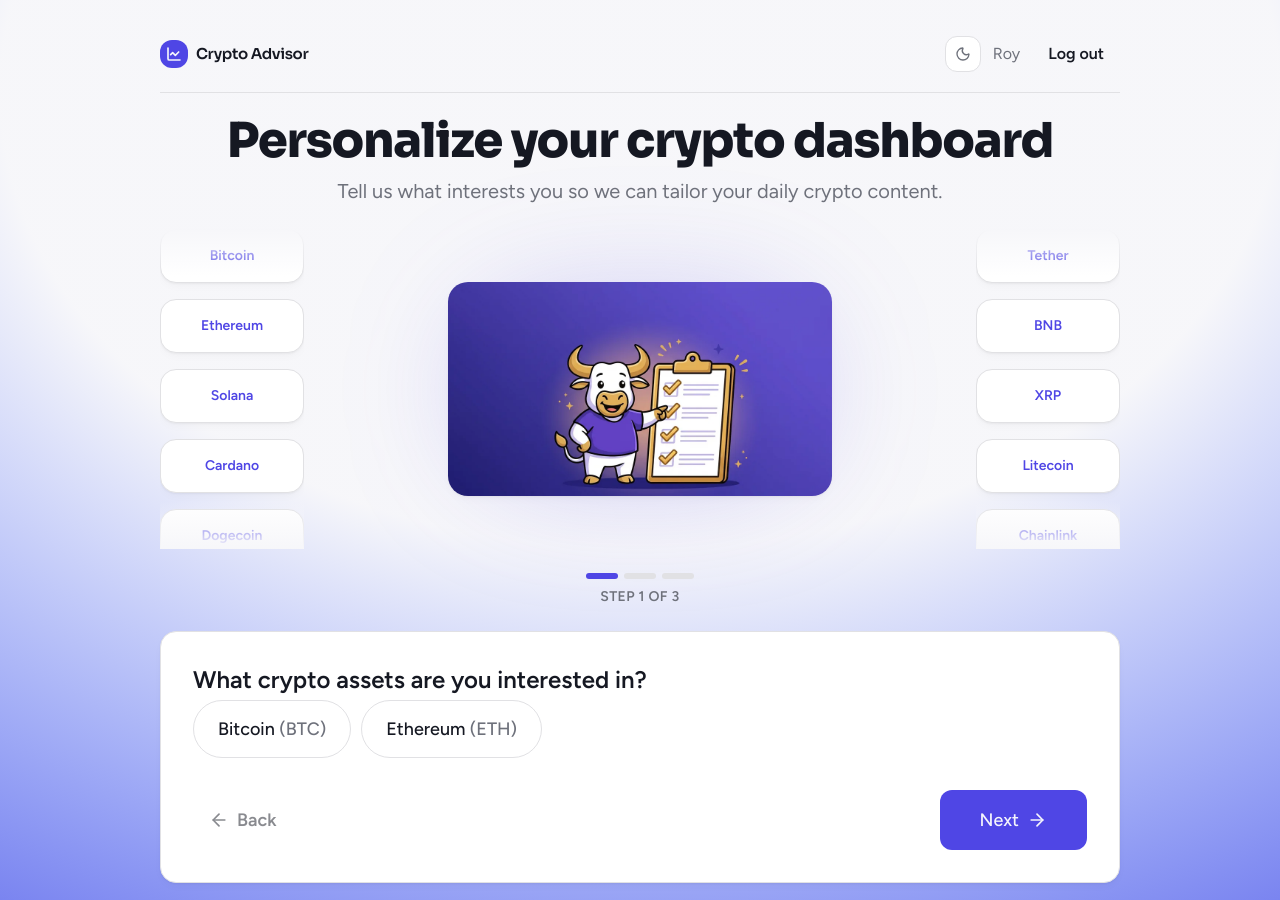
Test case: OnboardingPage › shows an error and keeps selections when saving fails
This screenshot has width=1280, height=900.
Click the button "Bitcoin (BTC)" at (272, 729), box [193,700,351,758]
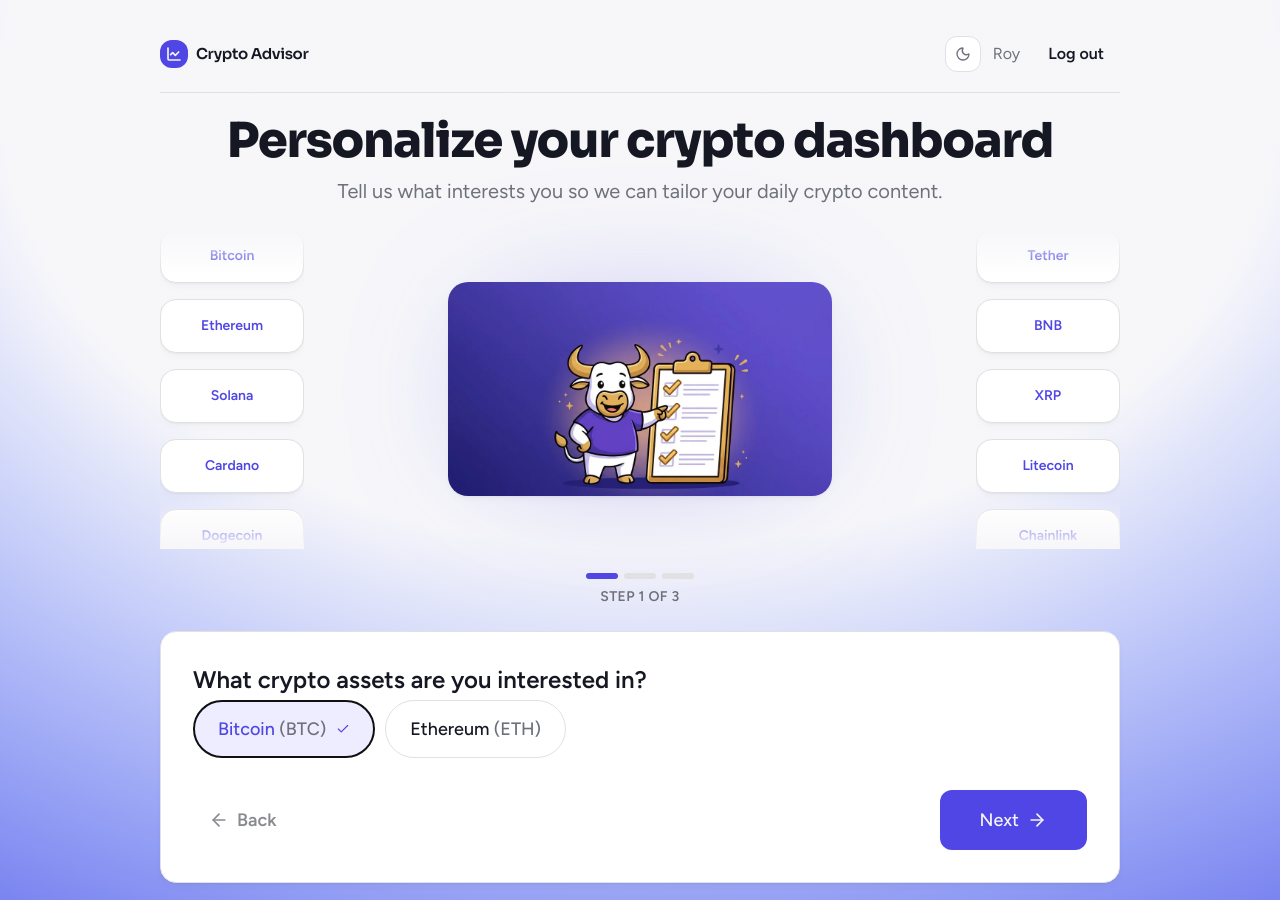
Click the button "Next" at (1013, 820), box [940,790,1087,850]
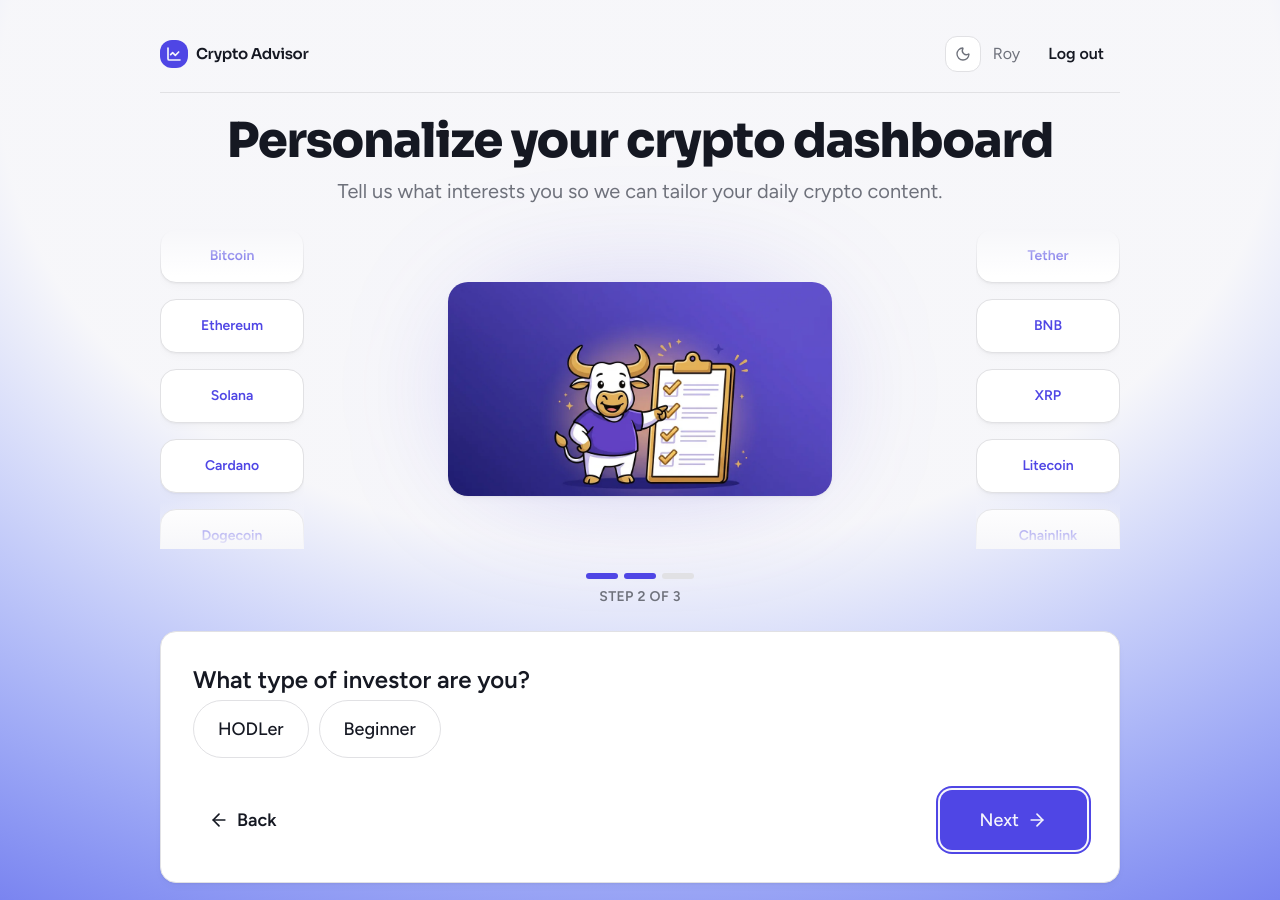
Click the button "HODLer" at (251, 729), box [193,700,309,758]
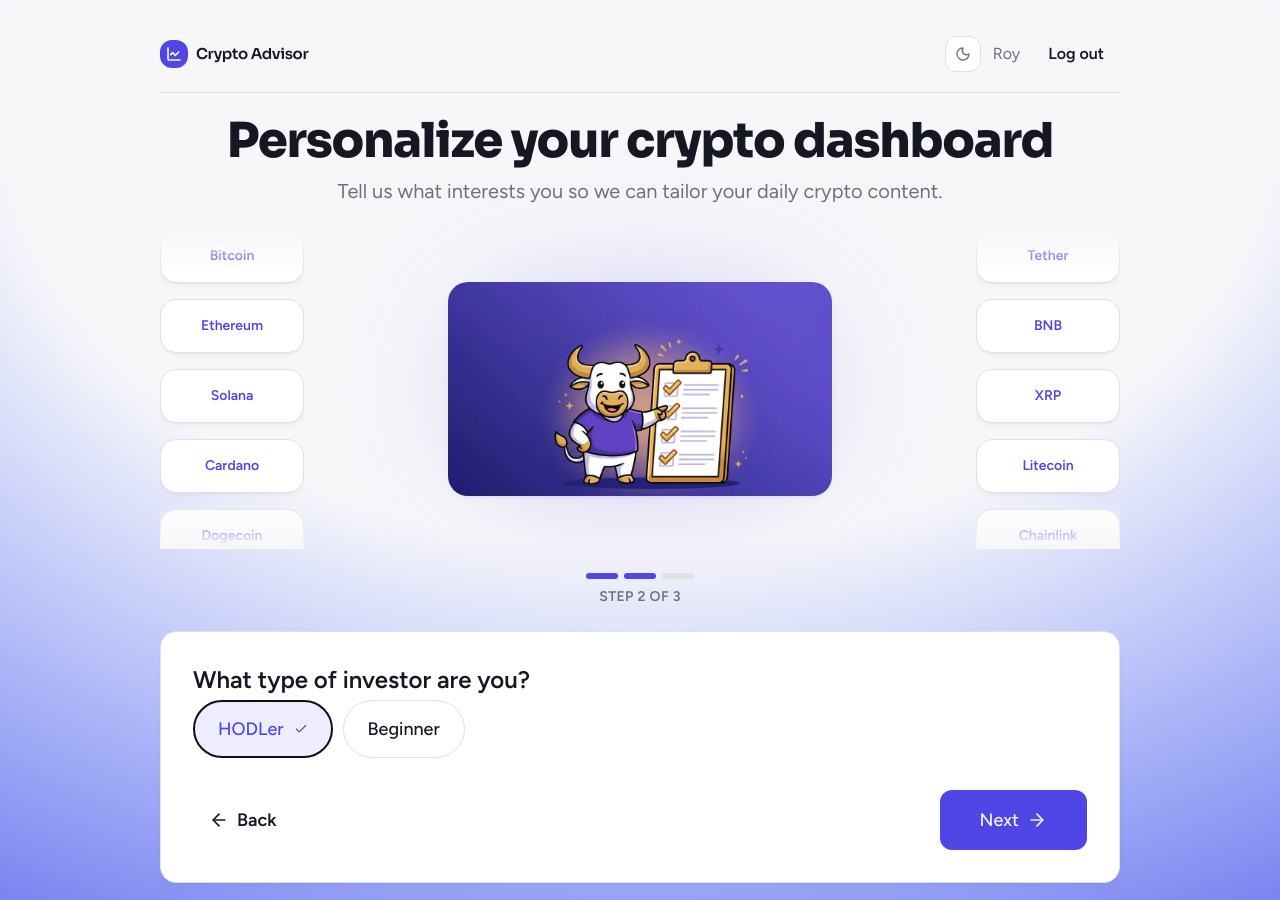
Click the button "Next" at (1013, 820), box [940,790,1087,850]
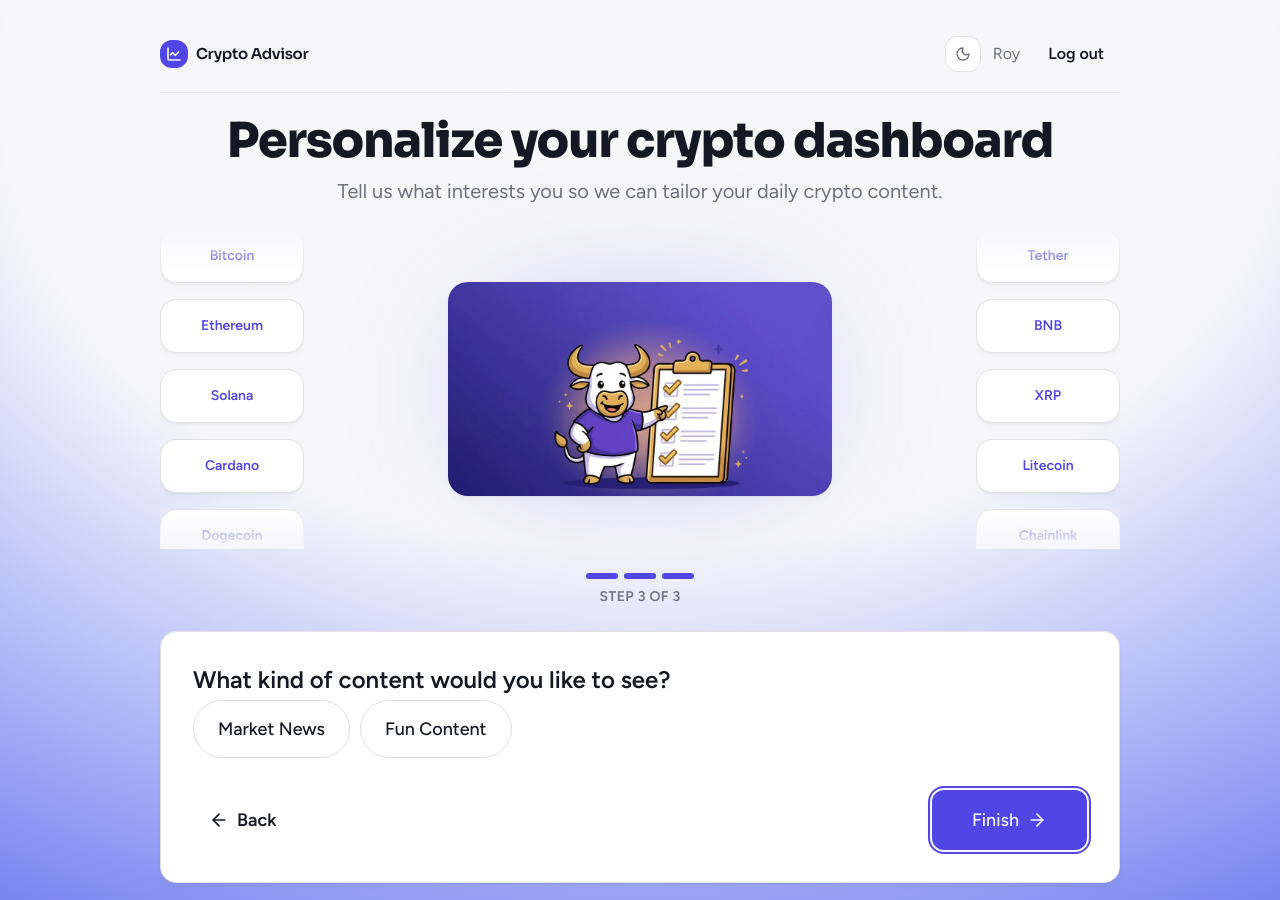
Click the button "Market News" at (272, 729), box [193,700,350,758]
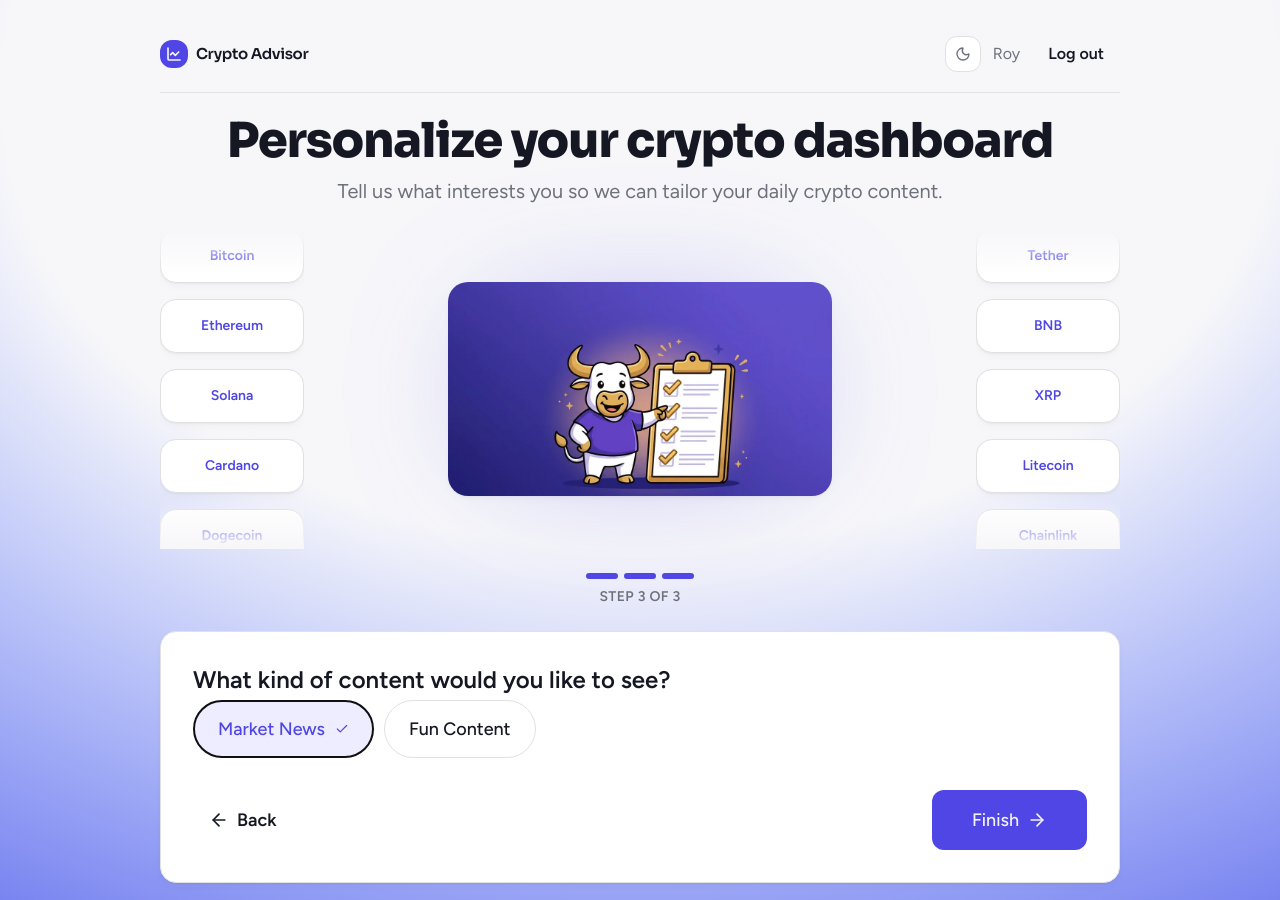
Click the button "Finish" at (1009, 820), box [932,790,1087,850]
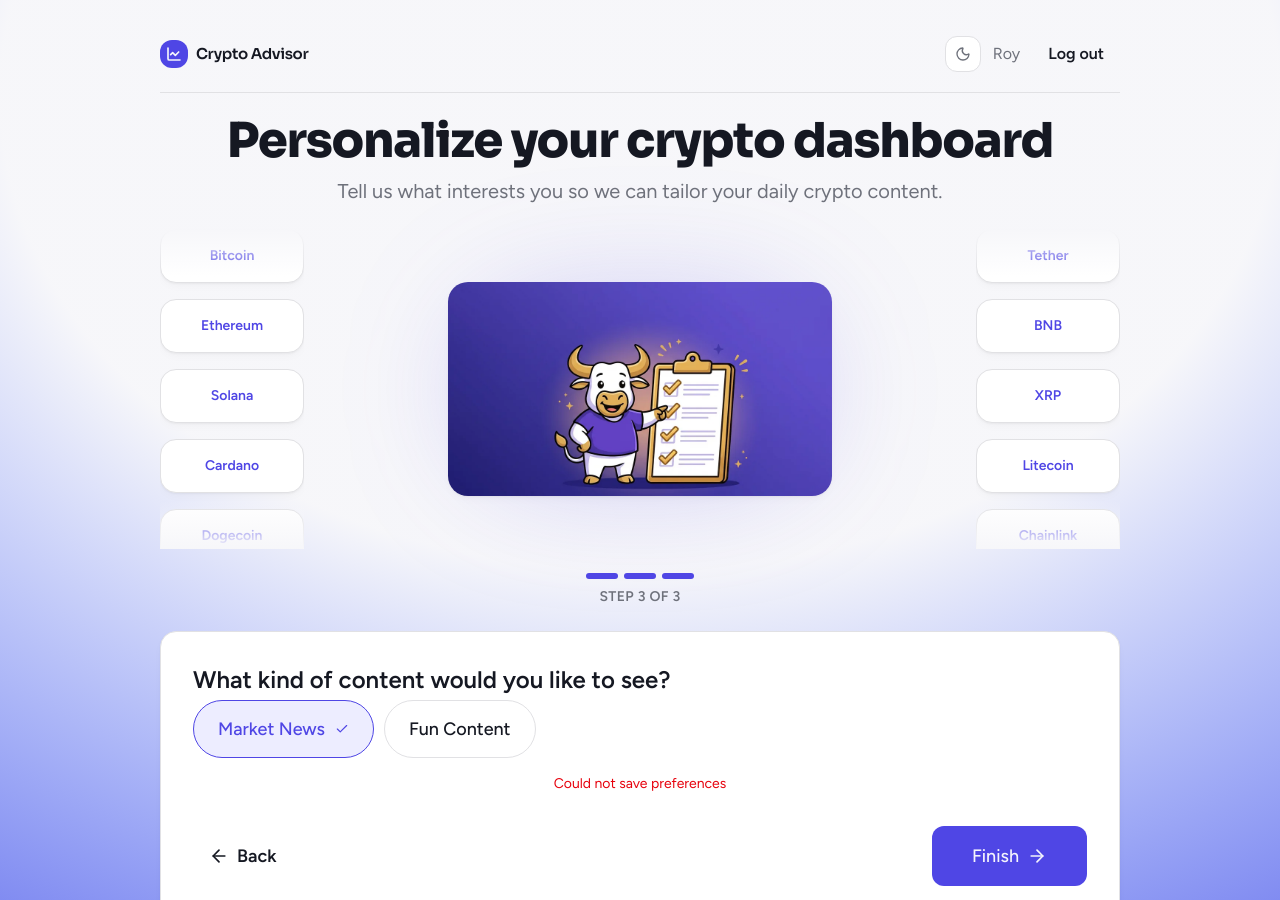
Expected: the message reads "Could not save preferences", [554,775,726,792]
